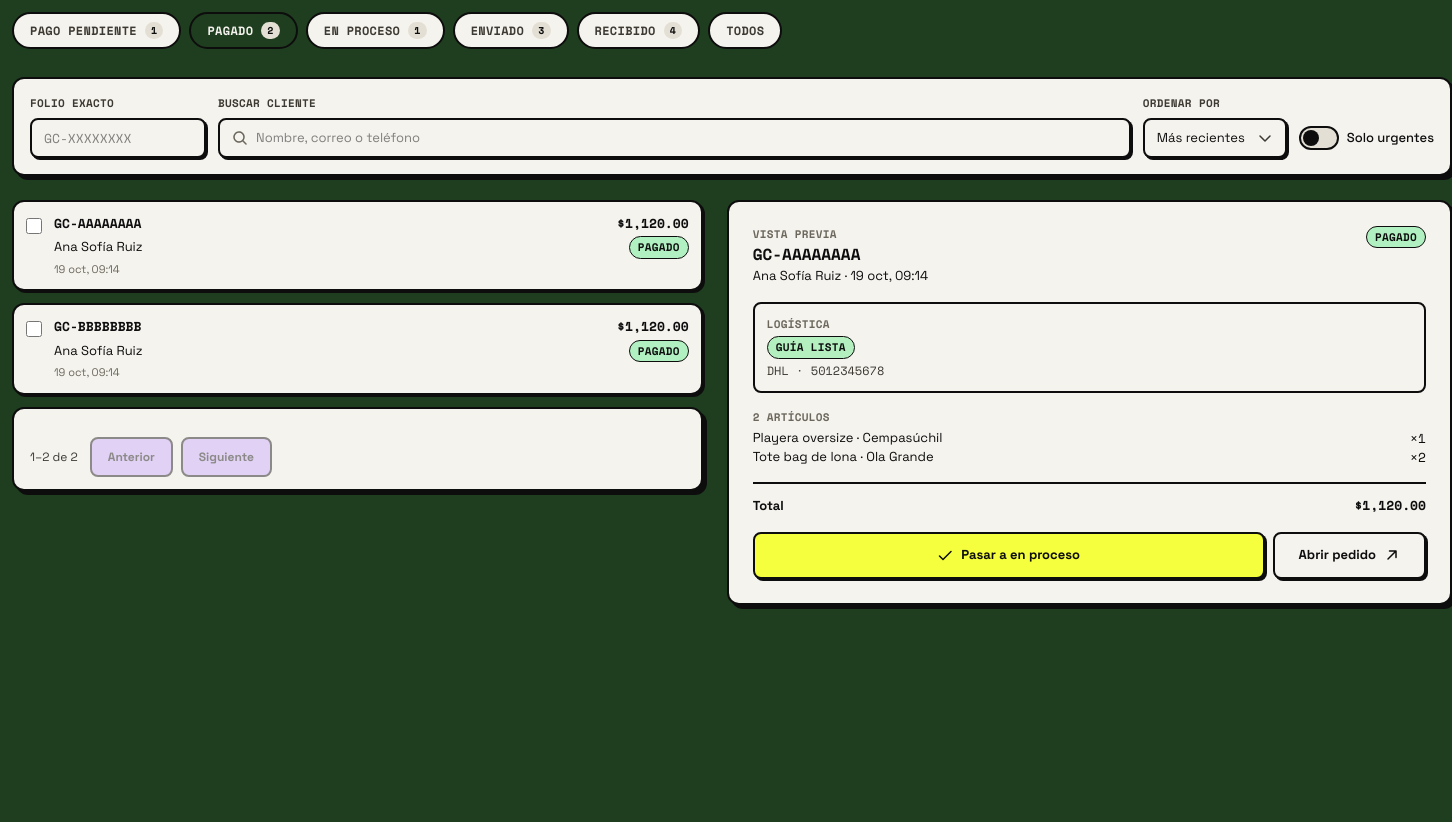
Test: OrdersPage: la URL manda › si falla un refresco tras una acción, las filas siguen a la vista con un aviso
The width and height of the screenshot is (1452, 822).
Click the button "Pasar a en proceso" at coordinates (1009, 555), box [753,532,1265,579]
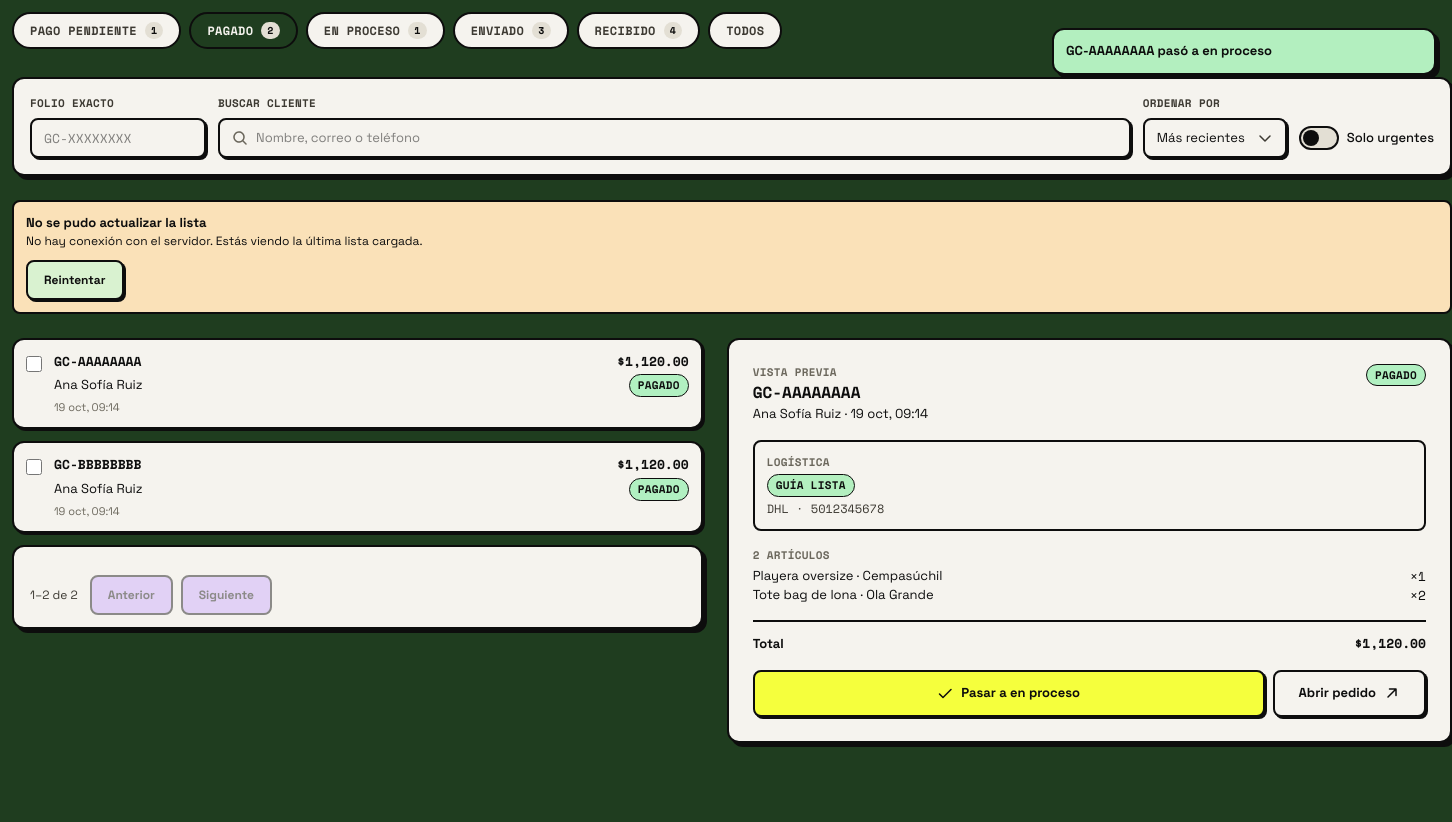
Expected: the link "GC-BBBBBBBB $1,120.00 Ana Sofía Ruiz pagado 19 oct, 09:14" is shown, [54,456,689,519]
Now the text "No se pudo actualizar la lista" is shown, box [26,214,207,231]
